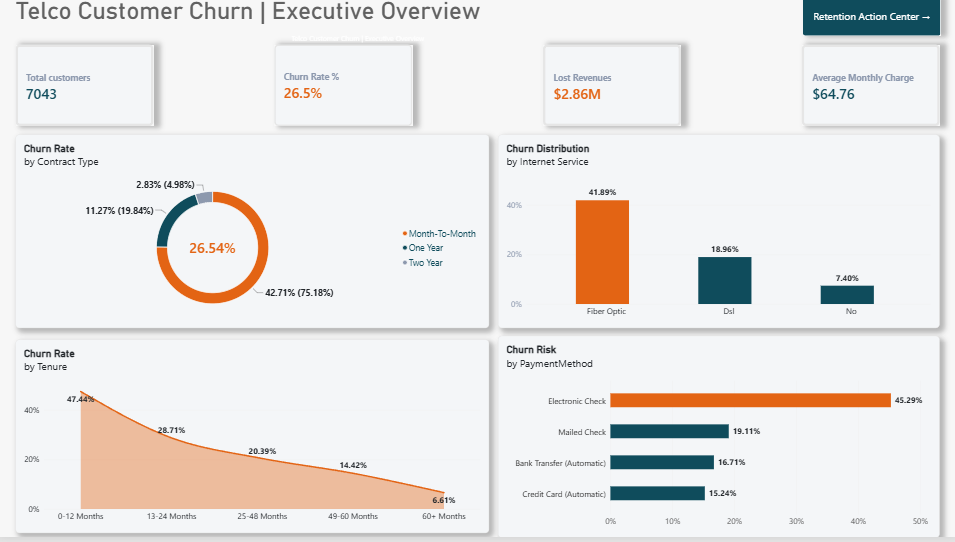

The page's visual inventory and layout, read from the dashboard file:
{"tool":"powerbi","page":{"name":"Executive Overview","canvas":[1920,1080],"ordinal":0},"visuals":[{"type":"cardVisual","fields":{"Data":["Measures_table.Total customers"]},"box":[36.2,95.7,276.6,163.8],"z":0},{"type":"cardVisual","fields":{"Data":["Measures_table.Churn Rate %"]},"box":[552.8,94.4,276.6,163.8],"z":1000},{"type":"cardVisual","fields":{"Data":["Measures_table.Lost Revenues"]},"box":[1088.9,94.4,276.6,163.8],"z":2000},{"type":"cardVisual","fields":{"Data":["Measures_table.Average Monthly Charge"]},"box":[1606.4,95.7,276.6,163.8],"z":3000},{"type":"donutChart","title":"Churn Rate ","fields":{"Category":["WA_Fn-UseC_-Telco-Customer-Churn.Contract"],"Y":["Measures_table.Churn Rate %"]},"box":[36.2,274.5,946.8,387.2],"z":4000},{"type":"clusteredColumnChart","title":"Churn Distribution","fields":{"Category":["WA_Fn-UseC_-Telco-Customer-Churn.InternetService"],"Y":["Measures_table.Churn Rate %"]},"box":[1000,274.5,883,387.2],"z":5000},{"type":"areaChart","title":"Churn Rate","fields":{"Category":["WA_Fn-UseC_-Telco-Customer-Churn.Tenure_group"],"Y":["Measures_table.Churn Rate %"]},"box":[36.2,685.1,946.8,387.2],"z":6000},{"type":"clusteredBarChart","title":"Churn Risk","fields":{"Category":["WA_Fn-UseC_-Telco-Customer-Churn.PaymentMethod"],"Y":["Measures_table.Churn Rate %"]},"box":[1000,676.6,883,404.3],"z":7000},{"type":"actionButton","title":"Telco Customer Churn | Executive Overview","box":[36.1,0,1369.4,94.4],"z":7001},{"type":"actionButton","box":[1610,0,275,77.5],"z":7002}]}

Visuals, with their boxes in screenshot pixels (x1, y1, x2, y2), scaled from the page's 1920x1080 canvas onto the 955x542 screenshot:
cardVisual - Measures_table.Total customers: 18, 48, 156, 130
cardVisual - Measures_table.Churn Rate %: 275, 47, 413, 130
cardVisual - Measures_table.Lost Revenues: 542, 47, 679, 130
cardVisual - Measures_table.Average Monthly Charge: 799, 48, 937, 130
"Churn Rate " donutChart: 18, 138, 489, 332
"Churn Distribution" clusteredColumnChart: 497, 138, 937, 332
"Churn Rate" areaChart: 18, 344, 489, 538
"Churn Risk" clusteredBarChart: 497, 340, 937, 541
"Telco Customer Churn | Executive Overview" actionButton: 18, 0, 699, 47
actionButton: 801, 0, 938, 39
